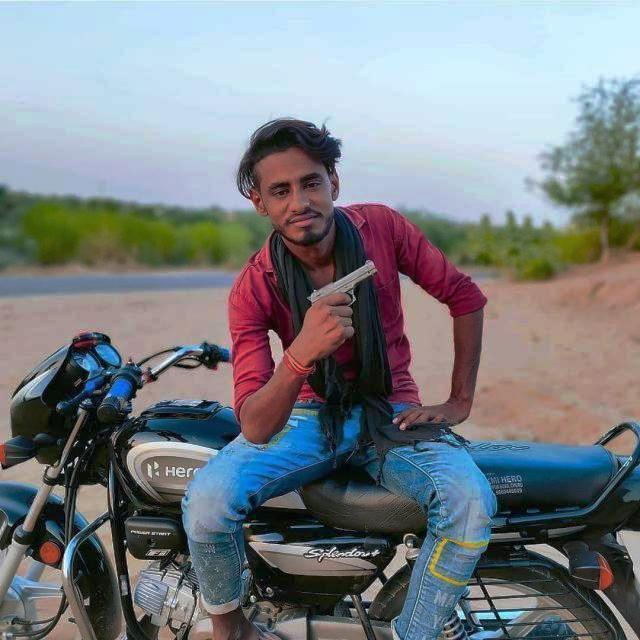Gun: (310, 261, 379, 319)
